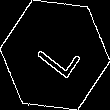L_NW: (28, 28, 82, 82)
